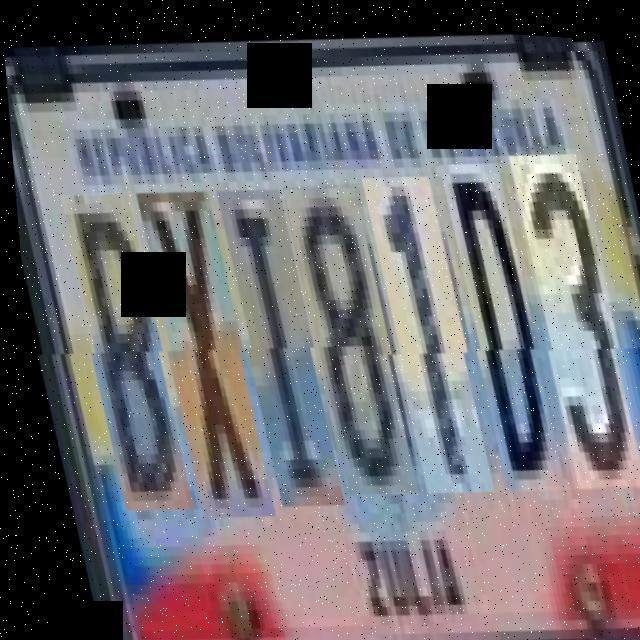1: (357, 161, 489, 491)
3: (504, 136, 640, 484)
8: (278, 174, 412, 495)
B: (56, 185, 187, 514)
D: (436, 150, 560, 486)
I: (211, 179, 339, 507)
X: (131, 181, 270, 520)
